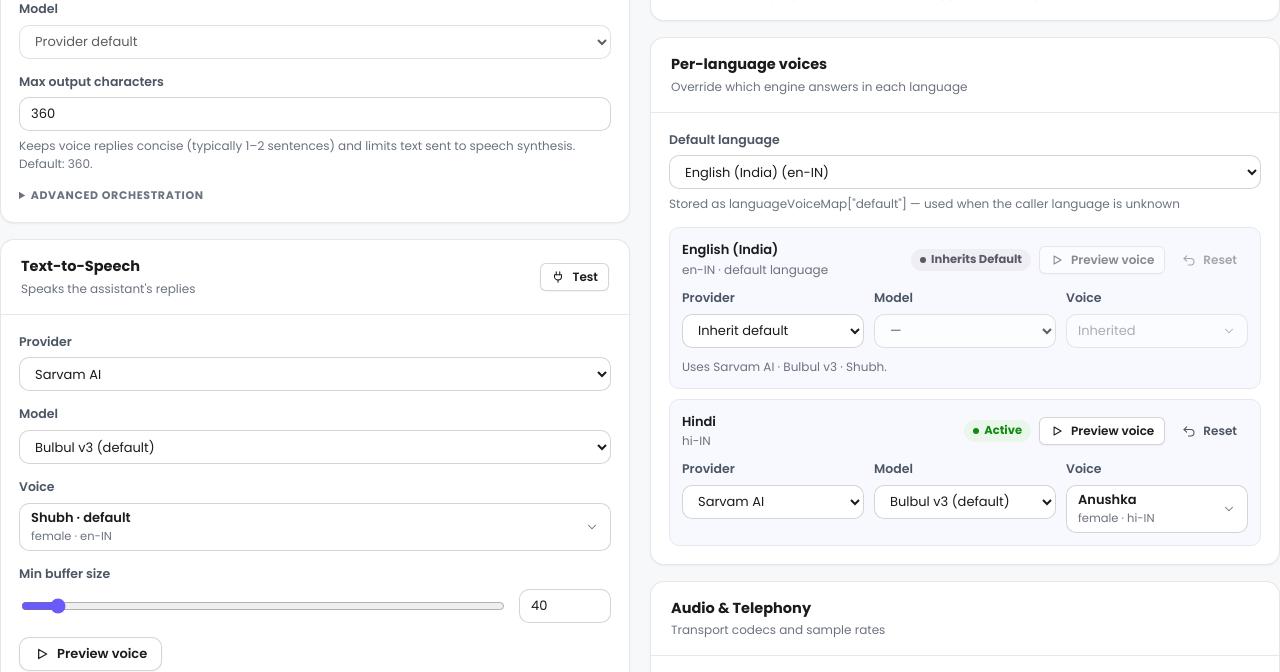
it: VoiceTab — Per-language voices › voice options are filtered to the row's language
The image size is (1280, 672).
(page scrolled)
Expected: the text "English (India)" is shown, top-left (682, 240), bottom-right (778, 259)
Select "Sarvam AI" in the dropdown named "Voice provider for en-IN": (773, 330) top-left (682, 314), bottom-right (864, 348)
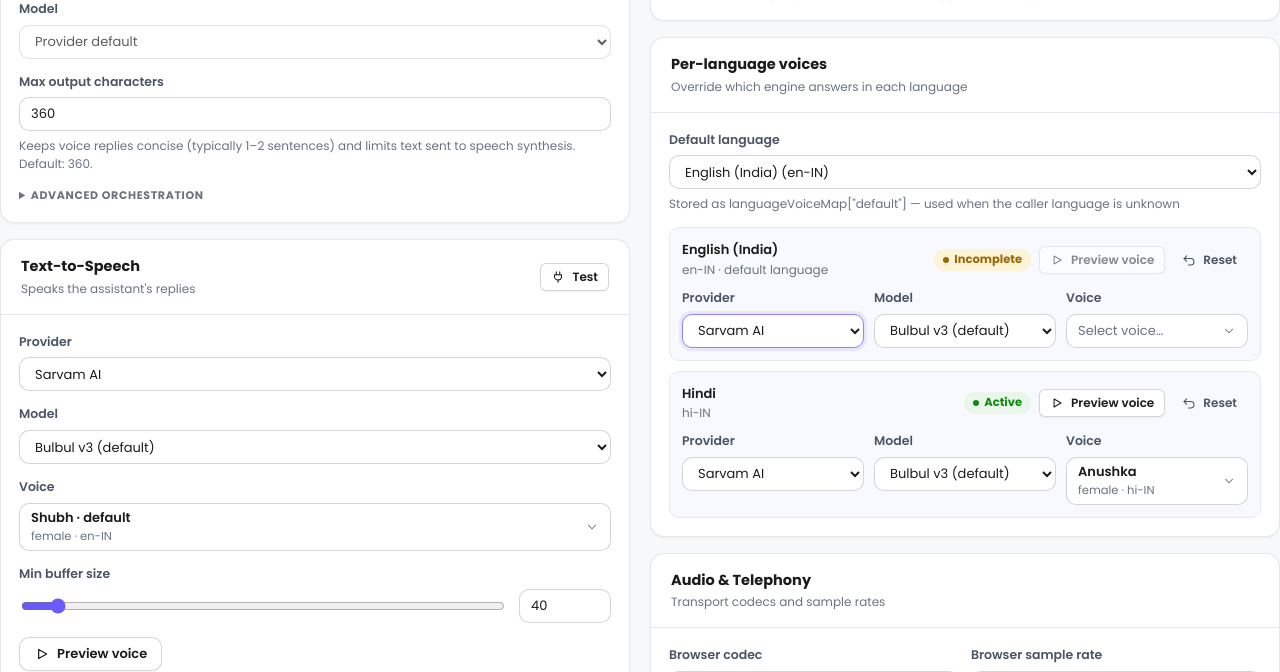
Now the dropdown named "Voice model for en-IN" shows "Bulbul v3 (default)", box top-left (874, 314), bottom-right (1056, 348)
Click the dropdown named "Voice for en-IN": click(1157, 330) top-left (1066, 314), bottom-right (1248, 348)
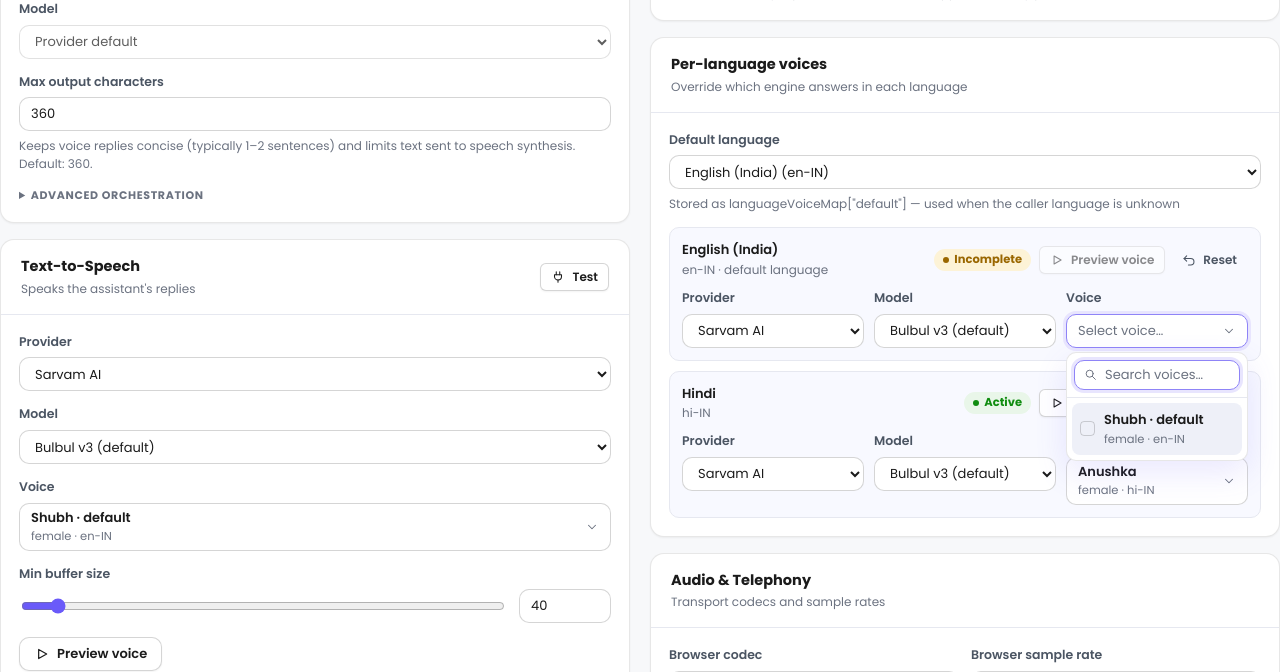
Now the option "Shubh · default female · en-IN" is shown, box top-left (1072, 402), bottom-right (1242, 454)
